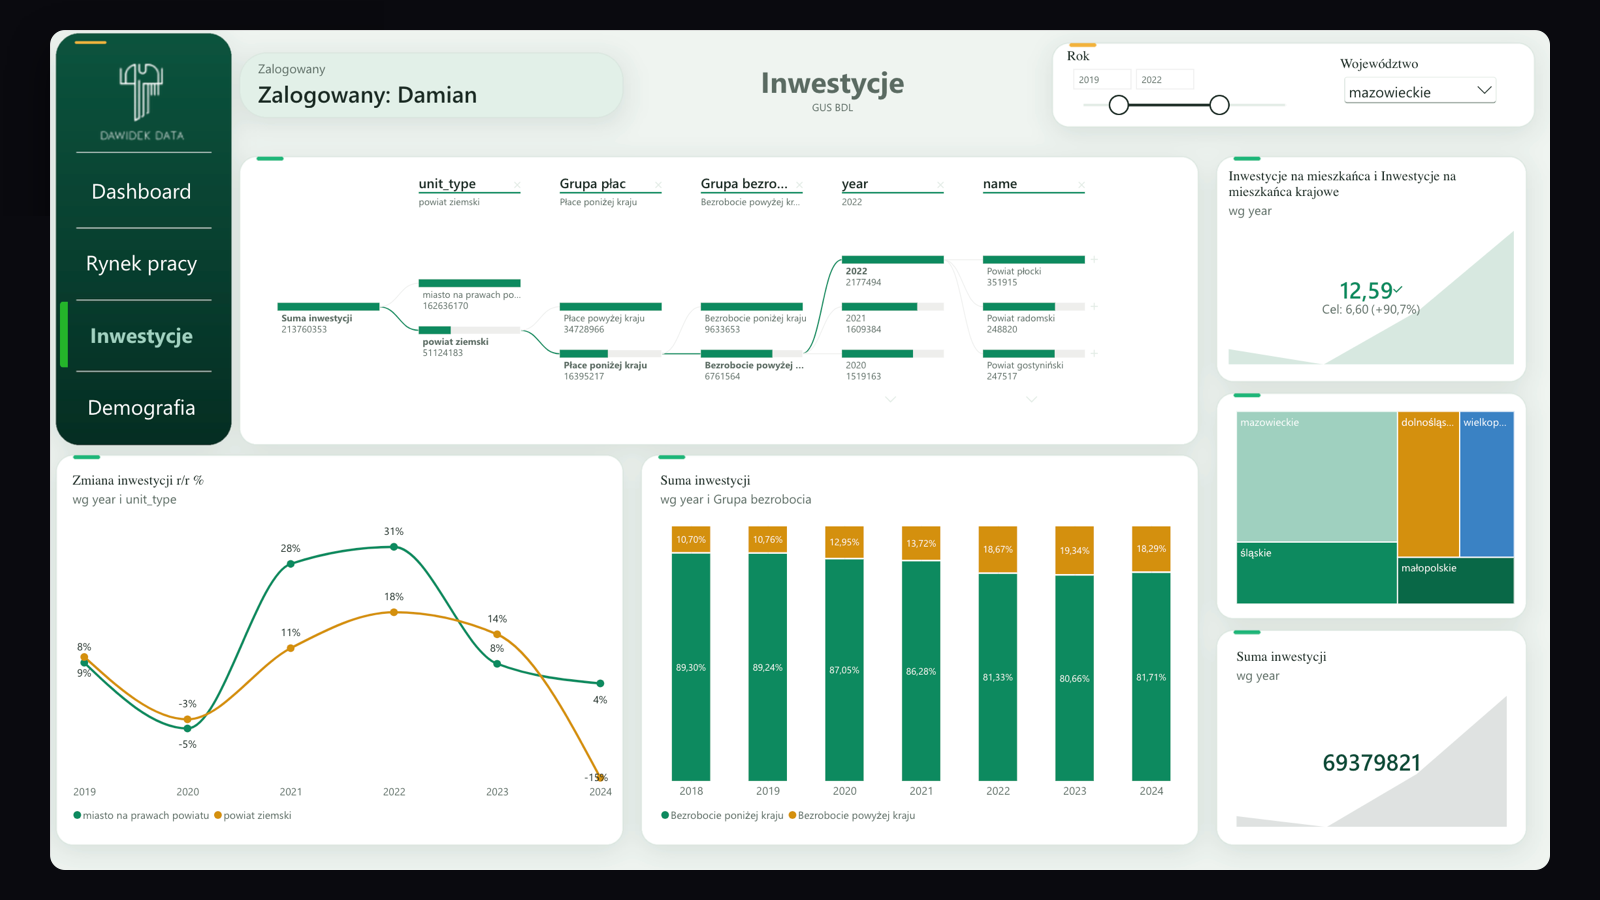

The page's visual inventory and layout, read from the dashboard file:
{"tool":"powerbi","page":{"name":"Inwestycje","canvas":[1920,1080],"ordinal":2},"visuals":[{"type":"slicer","title":"Rok","fields":{"Values":["public dim_year.year"]},"box":[1296.8,21.5,296.3,90.2],"z":0},{"type":"slicer","title":"Województwo","fields":{"Values":["public dim_units.voivodeship_name","public dim_units.unit_type"]},"box":[1644.2,31,204.7,76.8],"z":1000},{"type":"textbox","box":[751.4,37.7,491.5,70],"z":2000},{"type":"cardVisual","fields":{"Data":["_Measures.Zalogowany"]},"box":[247.8,37.7,471.3,60.6],"z":3000},{"type":"pageNavigator","box":[12.1,161.6,208.7,360.9],"z":4000},{"type":"kpi","fields":{"Indicator":["_Measures.Suma inwestycji"],"TrendLine":["public dim_year.year"]},"box":[1496.1,774.3,377.1,257.2],"z":5000},{"type":"kpi","fields":{"Goal":["_Measures.Inwestycje na mieszkańca krajowe"],"Indicator":["_Measures.Inwestycje na mieszkańca"],"TrendLine":["public dim_year.year"]},"box":[1486.7,161.6,395.9,280.1],"z":6000},{"type":"treemap","fields":{"Group":["public dim_units.voivodeship_name"],"Values":["_Measures.Suma inwestycji"]},"box":[1496.1,471.3,386.5,276.1],"z":7000},{"type":"decompositionTreeVisual","fields":{"Analyze":["_Measures.Suma inwestycji"],"ExplainBy":["public dim_units.unit_type","public dim_units.Grupa płac","public dim_units.Grupa bezrobocia","public dim_year.year","public dim_units.name","public dim_units.voivodeship_name"]},"box":[247.8,161.6,1197.2,360.9],"z":8000},{"type":"lineChart","fields":{"Category":["public dim_year.year"],"Series":["public dim_units.unit_type"],"Y":["_Measures.Zmiana inwestycji r/r %"]},"box":[12.1,550.8,720.4,480.7],"z":9000},{"type":"hundredPercentStackedColumnChart","fields":{"Category":["public dim_year.year"],"Series":["public dim_units.Grupa bezrobocia"],"Y":["_Measures.Suma inwestycji"]},"box":[760.8,550.8,697.6,480.7],"z":10000}]}

Visuals, with their boxes in screenshot pixels (x1, y1, x2, y2), scaled from the page's 1920x1080 canvas onto the 1600x900 screenshot:
"Rok" slicer: <box>1081,18,1328,93</box>
"Województwo" slicer: <box>1370,26,1541,90</box>
textbox: <box>626,31,1036,90</box>
cardVisual - _Measures.Zalogowany: <box>207,31,599,82</box>
pageNavigator: <box>10,135,184,435</box>
kpi - _Measures.Suma inwestycji x public dim_year.year: <box>1247,645,1561,860</box>
kpi - _Measures.Inwestycje na mieszkańca krajowe x _Measures.Inwestycje na mieszkańca: <box>1239,135,1569,368</box>
treemap - public dim_units.voivodeship_name x _Measures.Suma inwestycji: <box>1247,393,1569,623</box>
decompositionTreeVisual - _Measures.Suma inwestycji x public dim_units.unit_type: <box>207,135,1204,435</box>
lineChart - public dim_year.year x public dim_units.unit_type: <box>10,459,610,860</box>
hundredPercentStackedColumnChart - public dim_year.year x public dim_units.Grupa bezrobocia: <box>634,459,1215,860</box>
